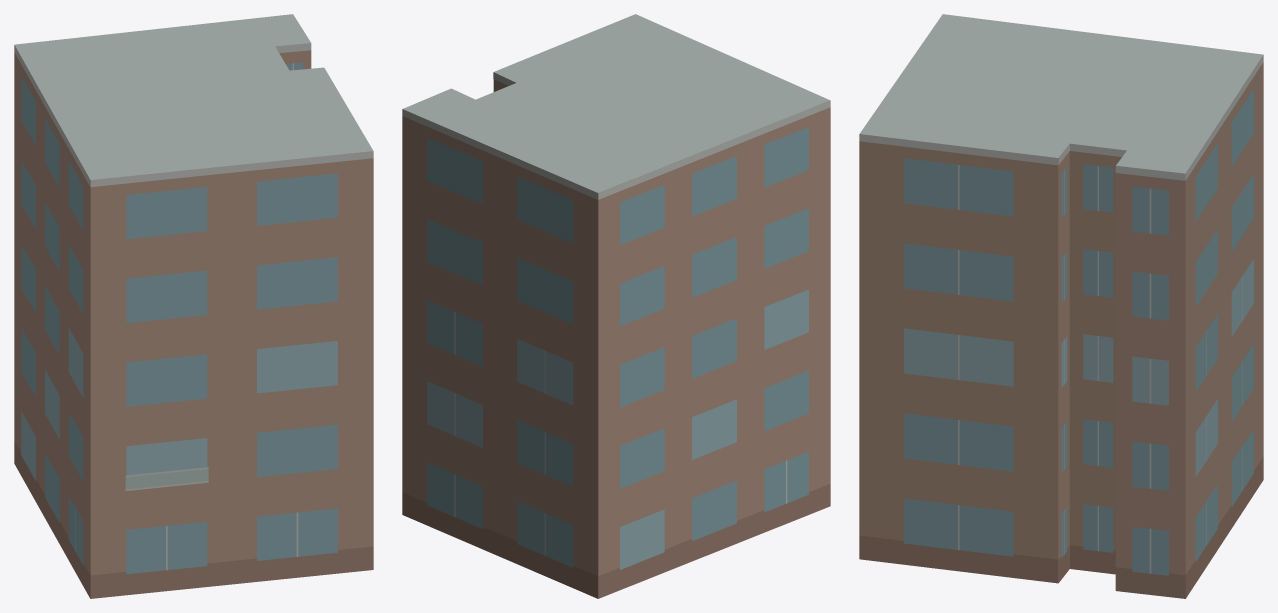
Rendered from survey-upis-32962347.glb.
The picture shows the model from 3 angles, left to right: view 1: azimuth 30°, elevation 25°; view 2: azimuth 150°, elevation 25°; view 3: azimuth 270°, elevation 25°; orthographic projection. The views are drawn at different scales.
Parts seen in each view (by area): view 1: survey-upis-32962347.tmp; view 2: survey-upis-32962347.tmp; view 3: survey-upis-32962347.tmp.
Boxes of the visible parts, x1,y1,x2,y2 form: survey-upis-32962347.tmp: [14, 14, 373, 598]; survey-upis-32962347.tmp: [402, 14, 830, 598]; survey-upis-32962347.tmp: [859, 14, 1263, 598].
Bounding box in the file's own units: 11.6 × 14.4 × 12.41.
